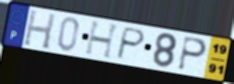0: (56, 16, 81, 53)
8: (150, 32, 178, 69)
H: (83, 20, 122, 61), (22, 8, 58, 51)
P: (176, 35, 209, 73), (114, 26, 147, 61)
